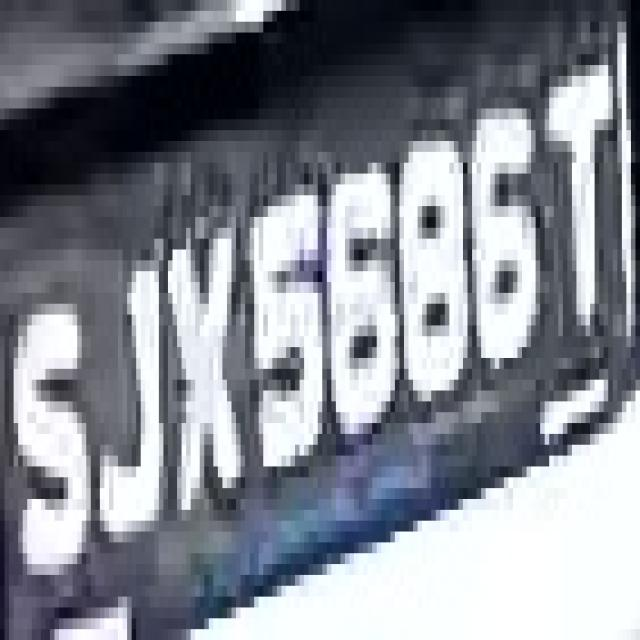5: (245, 174, 322, 499)
6: (458, 65, 544, 412), (327, 141, 408, 456)
8: (390, 119, 472, 423)
J: (96, 217, 172, 531)
S: (14, 249, 100, 596)
T: (549, 65, 631, 358)
X: (168, 173, 250, 542)
